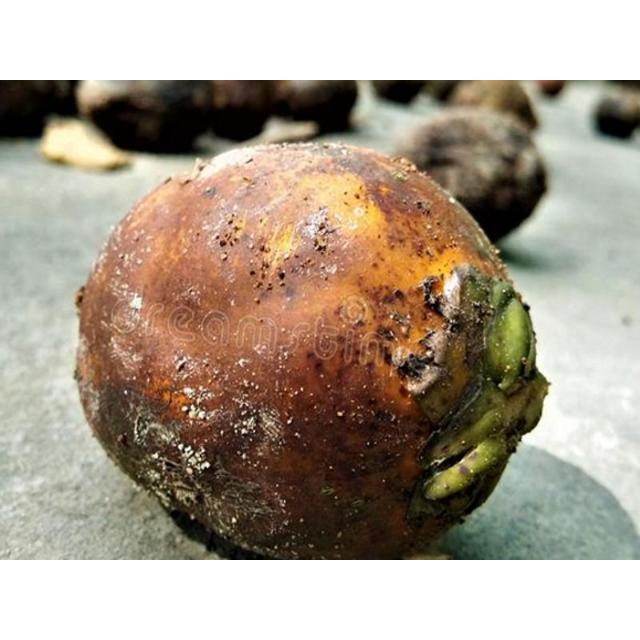damaged: (73, 143, 550, 559)
